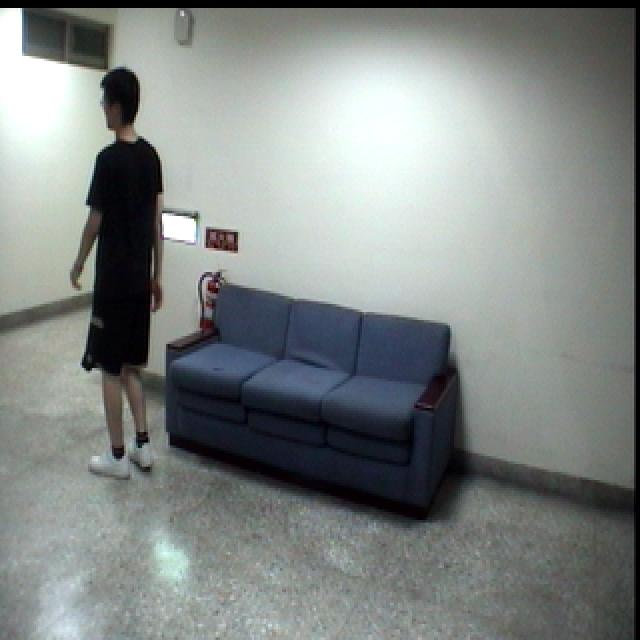stand: (59, 66, 179, 488)
